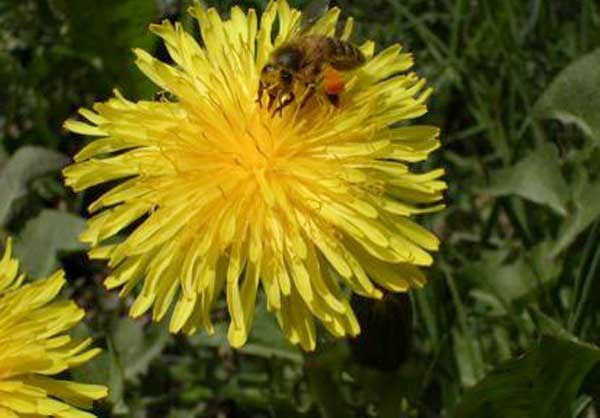dandelion: (90, 12, 446, 333), (3, 251, 95, 418)
